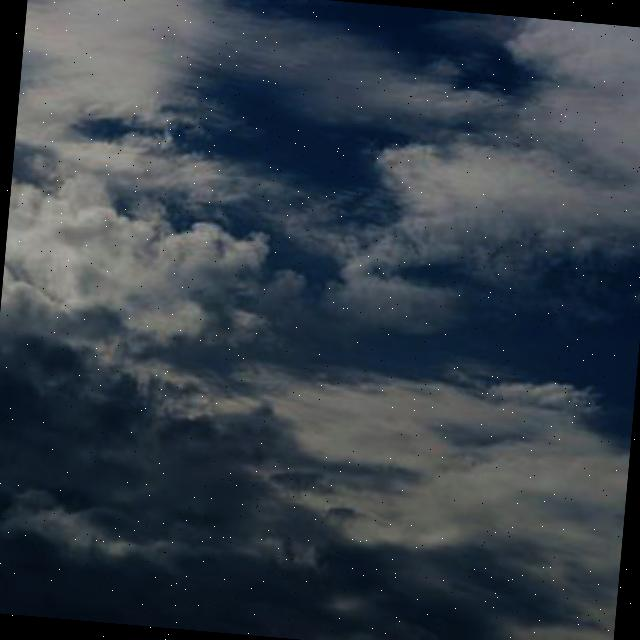As: (1, 44, 640, 630)
